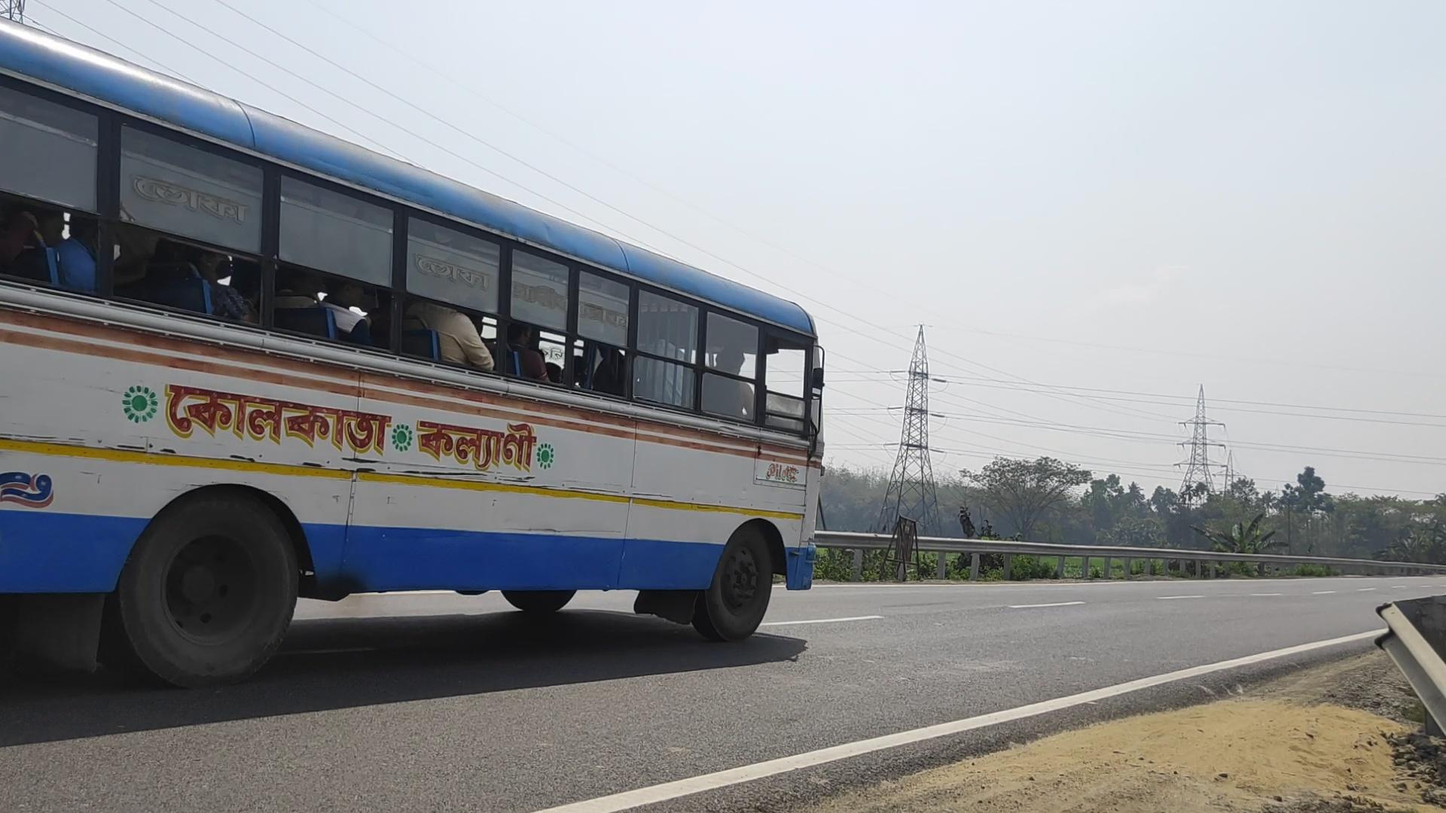Bus: (1, 14, 828, 690)
